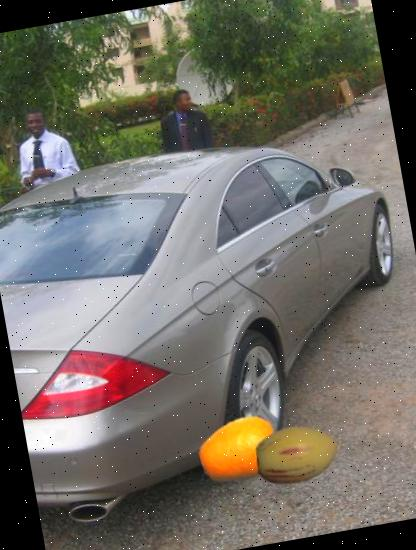Kumquats: (192, 402, 286, 496)
Pepino: (250, 406, 347, 502)
